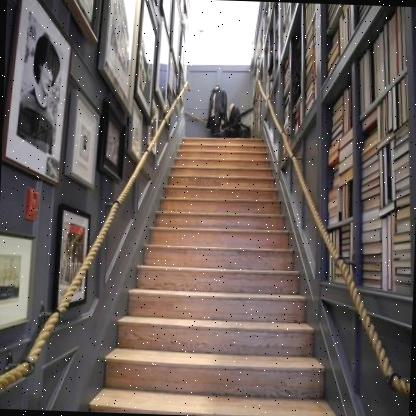stair: (117, 118, 316, 416)
